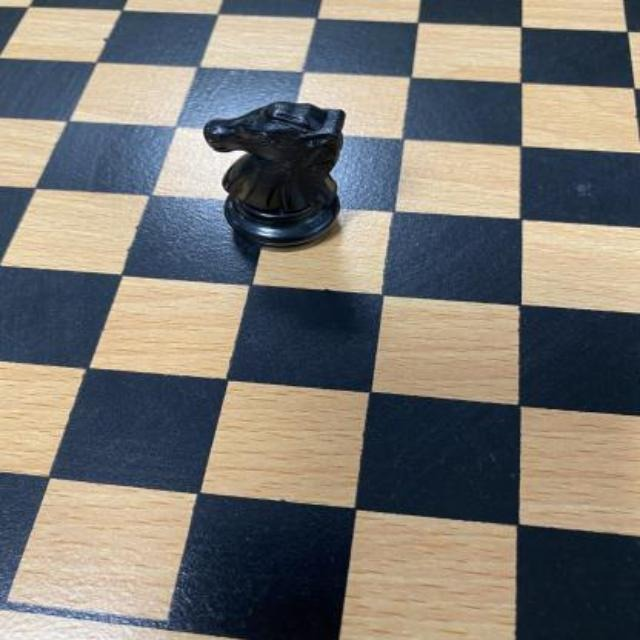black-knight: (202, 102, 345, 251)
